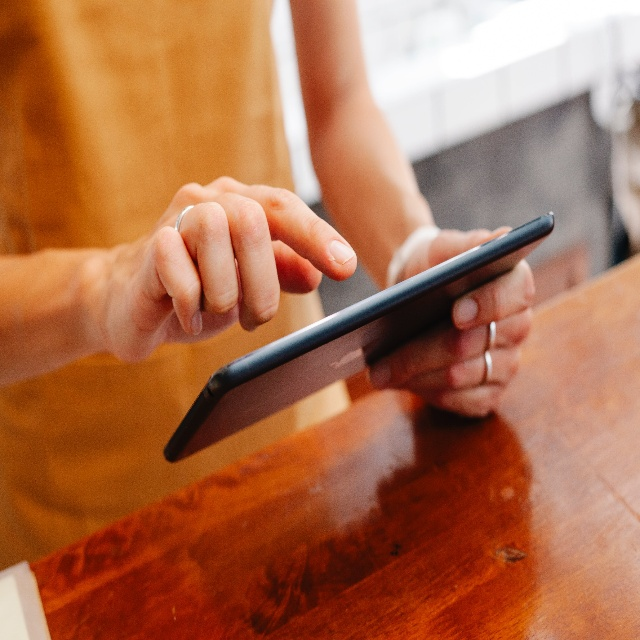Sin_guantes: (104, 175, 357, 366), (367, 224, 537, 419)
